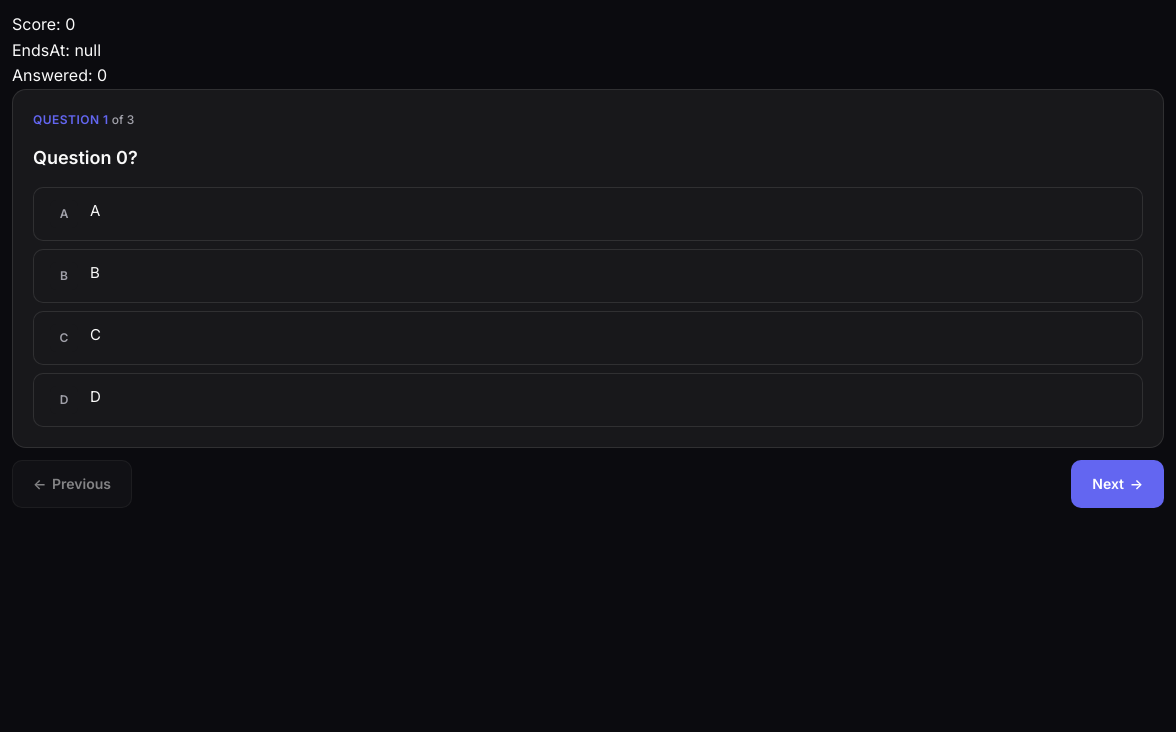
Test: useQuiz › does not inflate the score when submit is pressed repeatedly
Expected: the element showing "A A B B C C D D" is shown, top-left (33, 187), bottom-right (1143, 427)
Step 1. Click the radio button labelled "B B" → (64, 276), box top-left (33, 249), bottom-right (1143, 303)
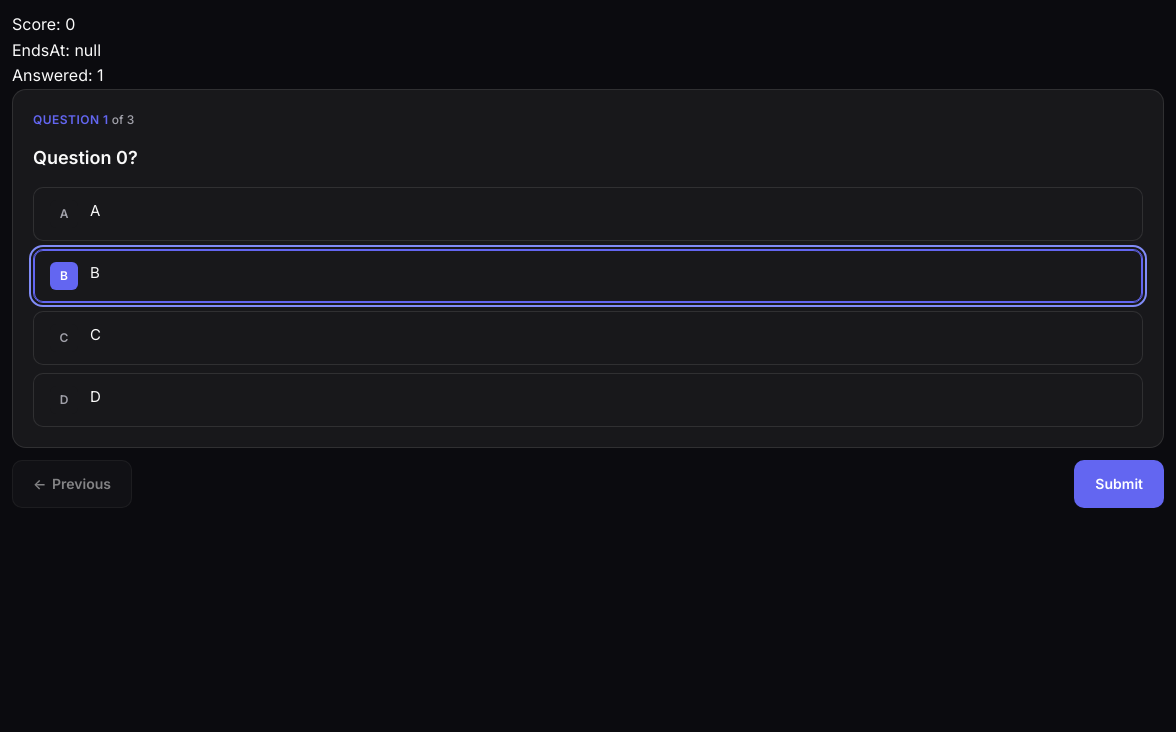
Step 2. Click the button "Submit" → (1119, 484), box top-left (1074, 460), bottom-right (1164, 508)
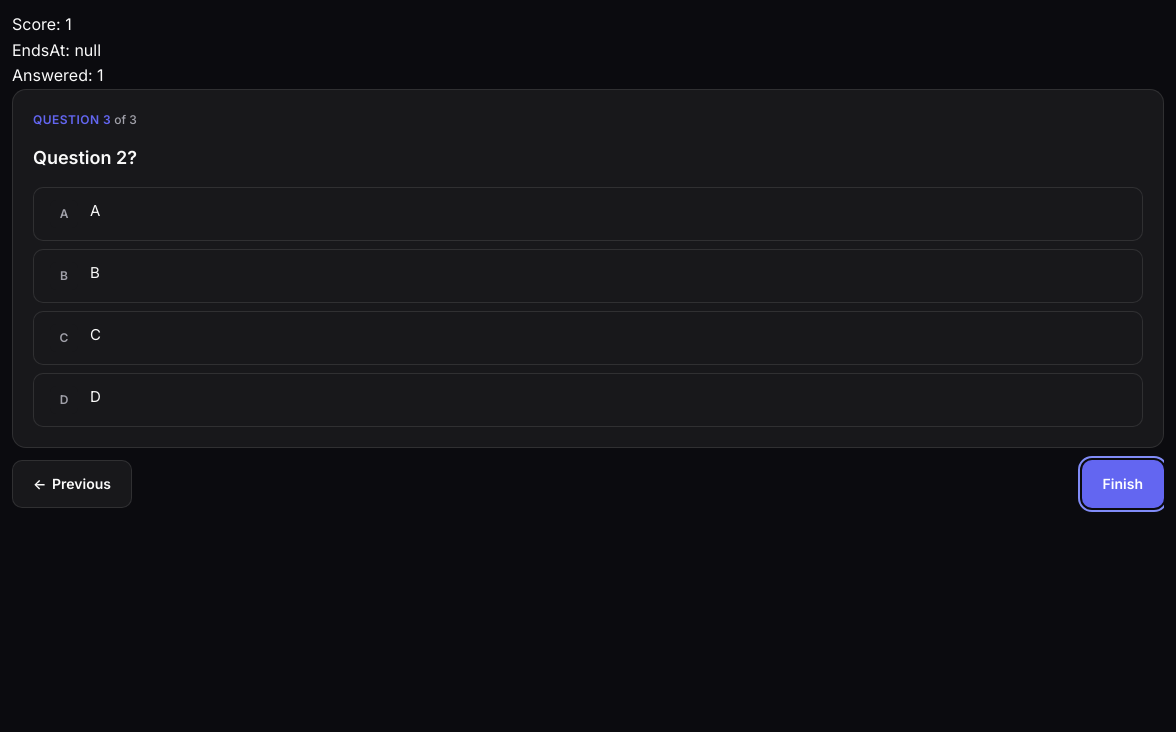
Expected: the text "Score: 1" is shown, top-left (12, 14), bottom-right (72, 34)
